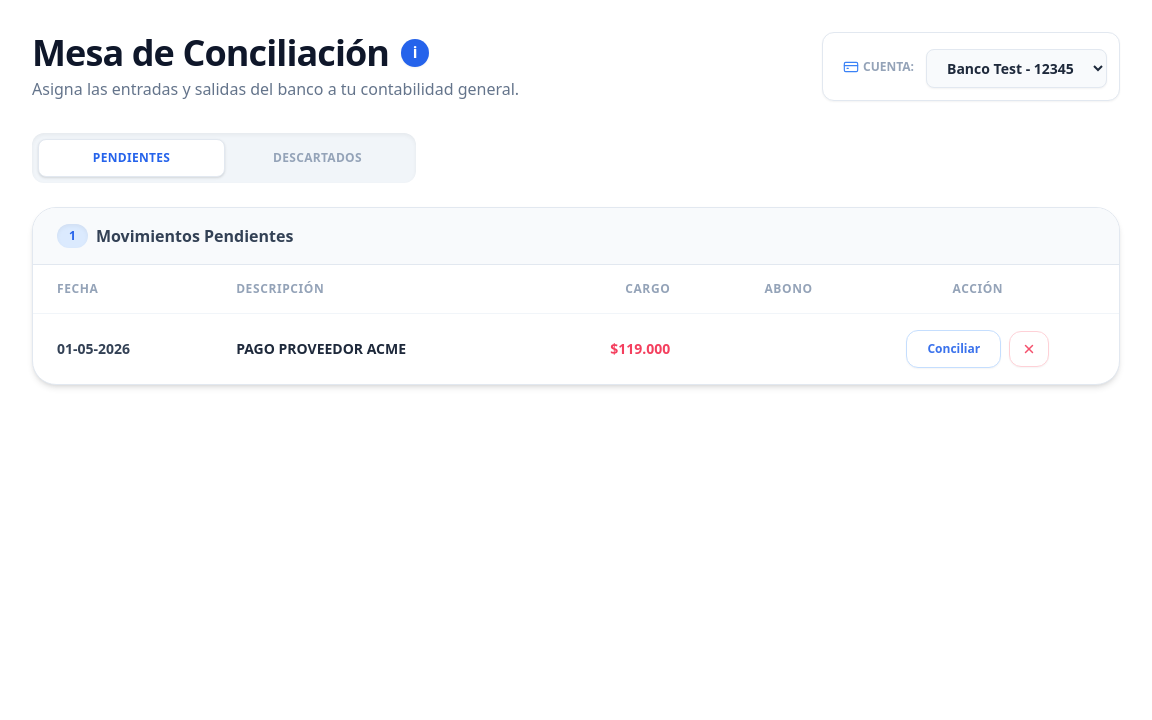
Test: MesaConciliacion › descartar un movimiento (tras confirmar) lo quita de pendientes
Step 1. Click the button titled "Descartar" → (1029, 349), box [1009,331,1049,367]
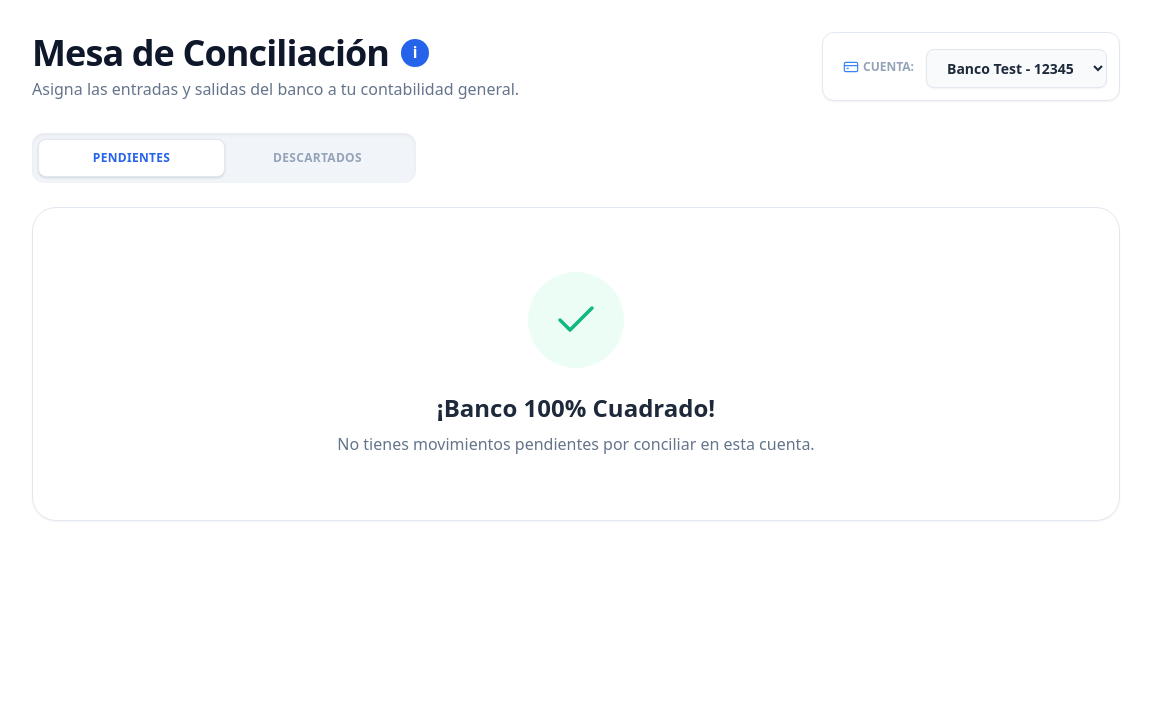
Expected: the heading "¡Banco 100% Cuadrado!" is shown, [437,391,715,424]
